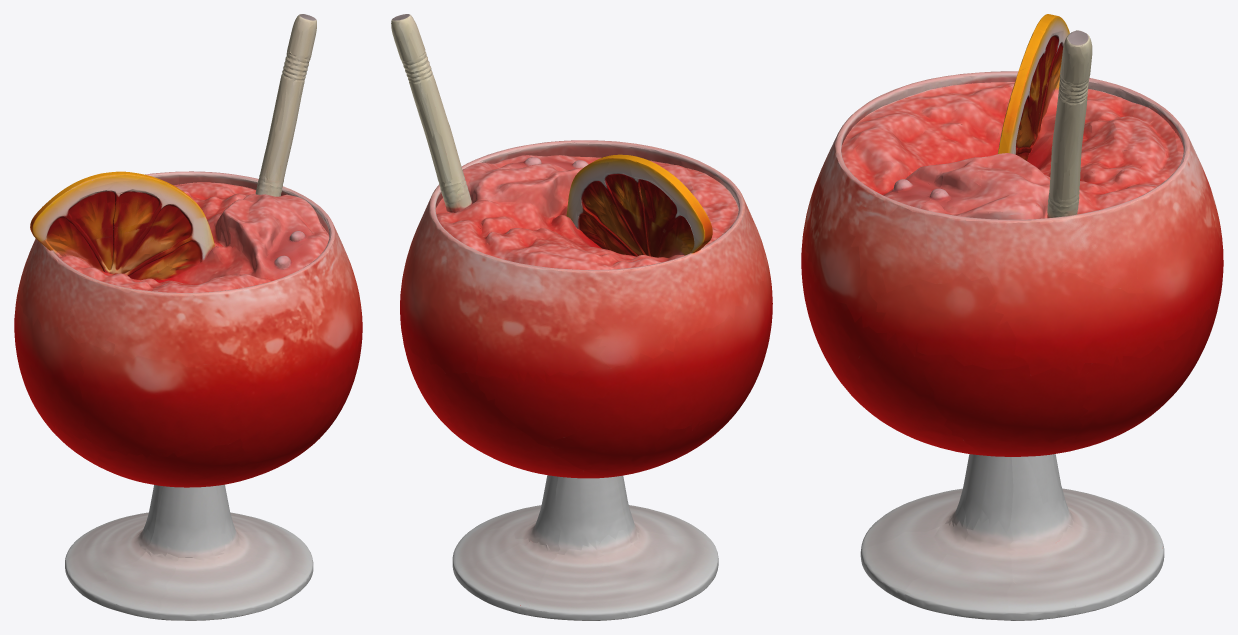
Rendered from blood-orange-spritz.glb.
3 views of the same model, side by side, from view 1: azimuth 30°, elevation 25°; view 2: azimuth 150°, elevation 25°; view 3: azimuth 270°, elevation 25° (orthographic). The views are drawn at different scales.
Size of the model in its own units: 1.21 by 1.9 by 1.2.
Materials: 1 (1 with a texture image).
